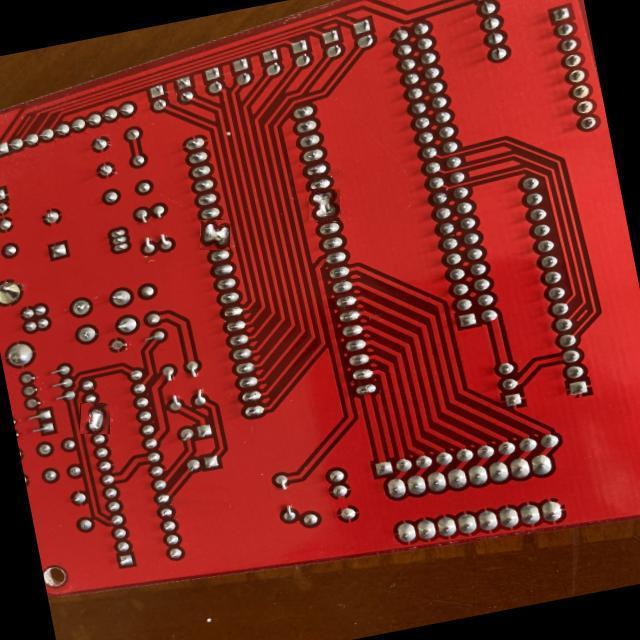damged: (308, 188, 340, 222), (80, 403, 110, 434), (200, 220, 230, 250)
